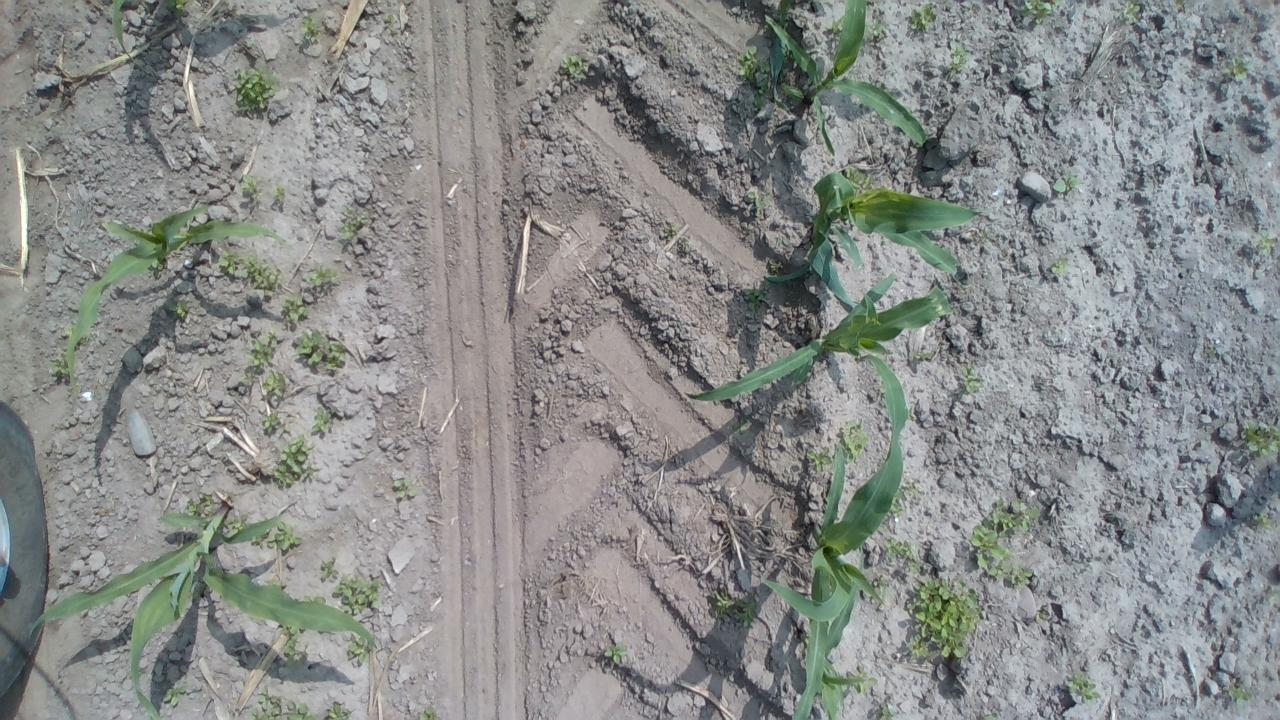Maize: (29, 503, 378, 720), (762, 353, 912, 720), (64, 203, 293, 384), (684, 272, 954, 402), (768, 173, 988, 316), (764, 0, 928, 158), (799, 587, 858, 720), (111, 0, 137, 64)
Weeds: (968, 494, 1041, 591), (904, 576, 984, 658), (216, 248, 282, 298), (293, 326, 348, 376), (238, 328, 280, 388), (272, 432, 316, 488), (736, 47, 774, 110), (232, 65, 280, 112), (248, 688, 317, 720), (334, 574, 384, 616), (711, 590, 758, 626), (838, 418, 872, 464), (1240, 420, 1280, 458), (884, 536, 922, 574), (1064, 670, 1102, 703), (266, 520, 304, 551), (278, 625, 306, 667), (300, 261, 343, 288), (337, 206, 369, 241), (947, 39, 973, 79), (909, 3, 944, 32), (1022, 0, 1064, 24), (280, 293, 312, 322), (844, 164, 873, 194), (804, 446, 834, 475), (264, 368, 291, 399), (864, 574, 891, 604), (848, 670, 879, 695), (559, 53, 588, 79), (311, 404, 336, 434), (958, 366, 984, 394), (1256, 229, 1280, 258), (185, 495, 215, 518), (1222, 55, 1248, 81), (744, 286, 768, 314), (240, 175, 265, 200), (602, 640, 627, 664), (392, 477, 420, 498), (302, 14, 323, 42), (824, 14, 842, 46), (882, 498, 906, 522), (864, 21, 889, 44), (348, 636, 369, 663), (260, 412, 284, 435), (1052, 175, 1079, 195), (746, 190, 772, 210), (1224, 685, 1252, 703), (163, 0, 190, 18), (163, 686, 186, 706), (318, 557, 338, 580), (1120, 0, 1138, 24), (49, 356, 70, 376), (326, 702, 349, 720), (170, 302, 190, 320), (732, 417, 754, 433), (382, 13, 398, 34), (1050, 258, 1068, 276), (877, 704, 897, 720), (270, 184, 288, 201), (1253, 512, 1272, 528), (223, 517, 246, 530), (894, 487, 921, 498), (302, 594, 328, 604), (976, 226, 991, 243), (416, 706, 434, 720), (262, 578, 286, 588), (664, 224, 680, 238), (151, 258, 166, 272), (1264, 590, 1280, 603), (913, 351, 935, 360), (769, 258, 782, 273), (1033, 611, 1050, 622), (981, 712, 998, 720), (1172, 0, 1184, 11), (64, 325, 76, 336), (1208, 344, 1217, 358), (21, 160, 28, 176), (174, 34, 184, 45), (682, 240, 691, 251), (208, 16, 216, 26), (252, 538, 262, 545)
